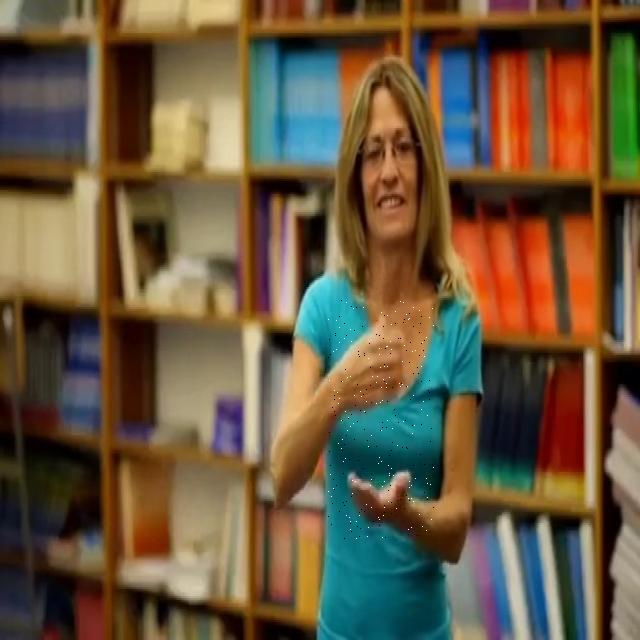cup: (328, 300, 434, 540)
